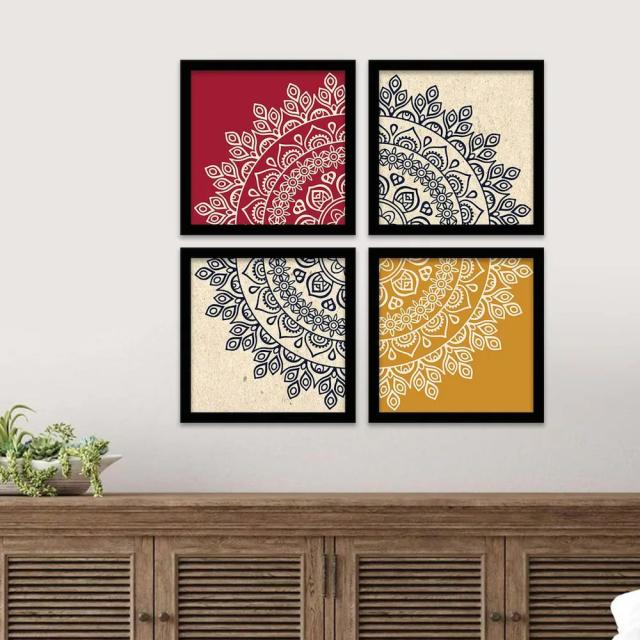painting: (368, 247, 545, 425), (368, 61, 545, 238), (180, 57, 356, 235), (182, 248, 358, 426)
